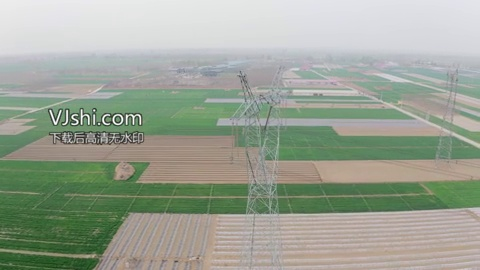tower_body: (230, 68, 294, 270), (434, 66, 459, 161)
tower_foot: (241, 231, 287, 269)
tower_head: (233, 70, 291, 191)
